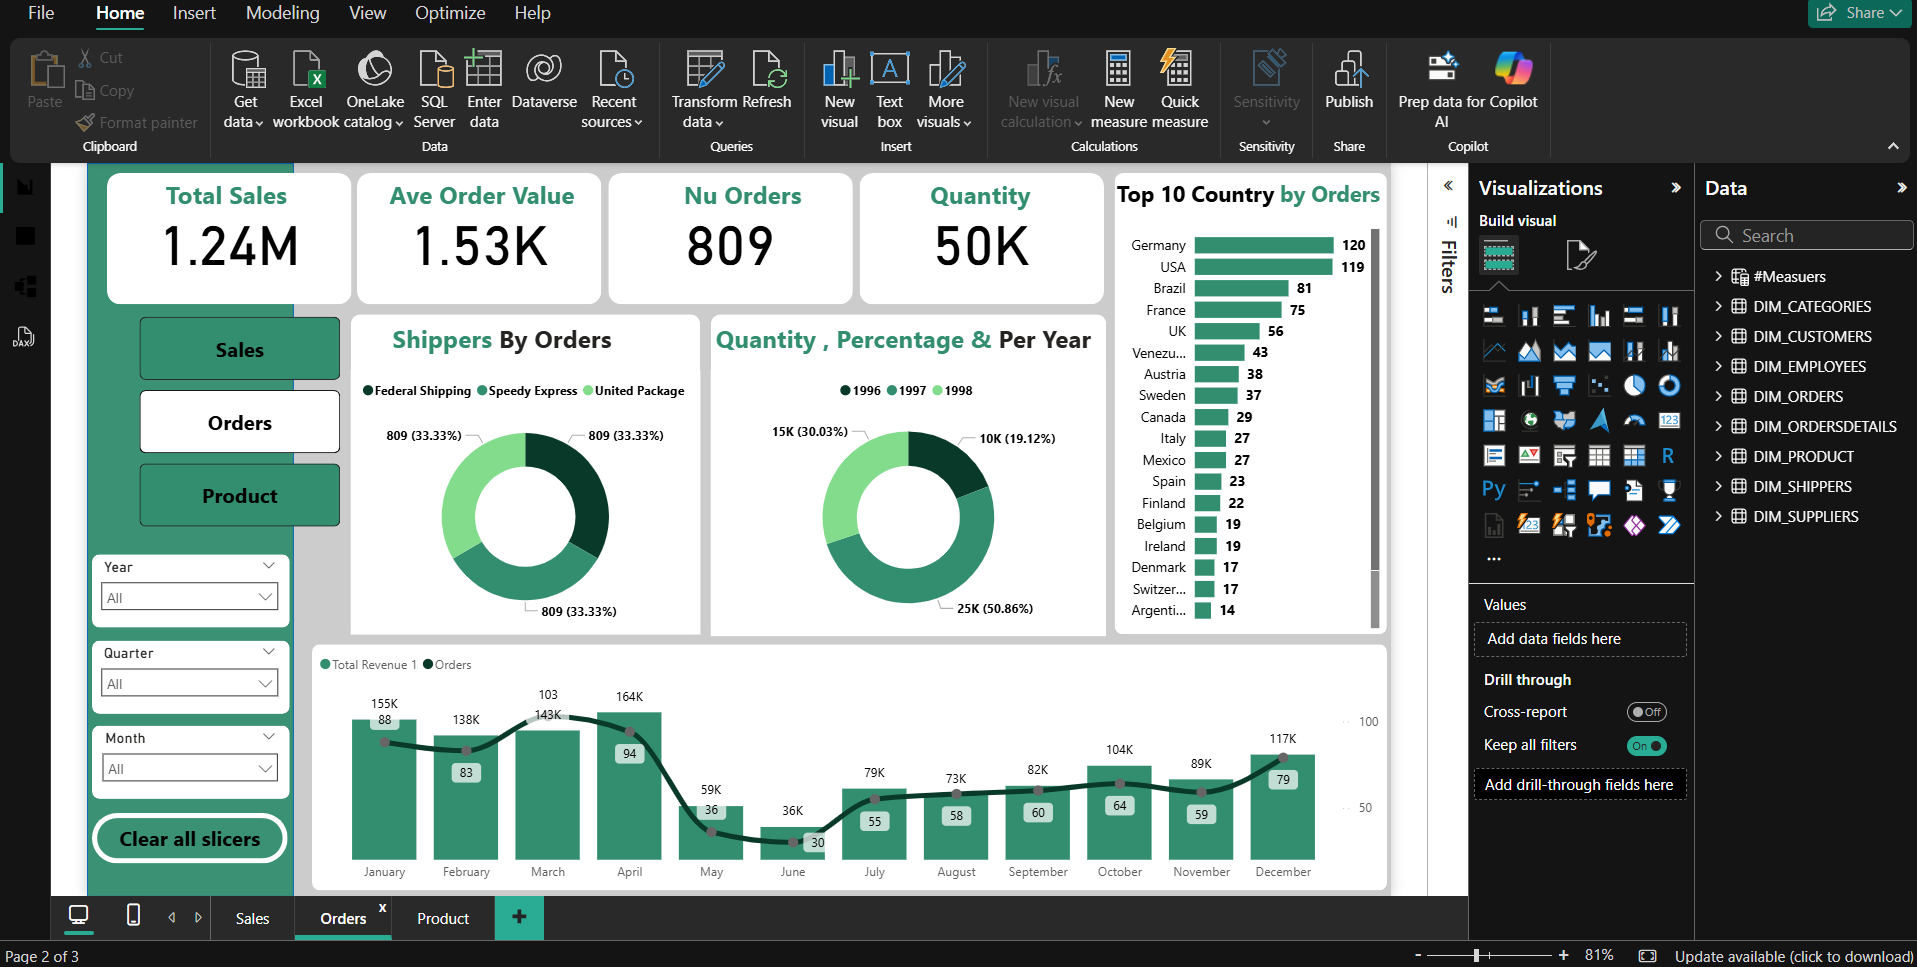

The page's visual inventory and layout, read from the dashboard file:
{"tool":"powerbi","page":{"name":"Orders","canvas":[1280,720],"ordinal":1},"visuals":[{"type":"shape","box":[1008.6,9.6,267.6,452.8],"z":0},{"type":"shape","box":[0,0,203.1,720.4],"z":1000},{"type":"shape","box":[19.2,9.6,240.1,129],"z":2000},{"type":"shape","box":[758,9.6,240,129],"z":3000},{"type":"shape","box":[511.7,9.6,240.1,129],"z":4000},{"type":"shape","box":[265.5,9.6,240,129],"z":5000},{"type":"card","title":"Age Order Value","fields":{"Values":["#Measuers.AOV"]},"box":[264.8,9.6,240.1,129],"z":6000},{"type":"card","title":"Nu Orders","fields":{"Values":["#Measuers.Orders"]},"box":[511.8,9.6,240.1,129],"z":7000},{"type":"card","title":"Total Sales","fields":{"Values":["#Measuers.Total Revenue 1"]},"box":[19.2,9.6,240.1,129],"z":8000},{"type":"card","title":"Quantity","fields":{"Values":["#Measuers.Quantity"]},"box":[757.5,9.6,240.1,129],"z":9000},{"type":"actionButton","box":[5.5,638.1,192.1,49.4],"z":10000},{"type":"clusteredBarChart","fields":{"Category":["DIM_ORDERS.SHIPCOUNTRY"],"Y":["#Measuers.Orders"]},"box":[1008.6,52.1,264.8,410.3],"z":11000},{"type":"textbox","box":[1000.3,9.6,279.9,64.5],"z":12000},{"type":"shape","box":[220.9,472.4,1055.2,241.7],"z":13000},{"type":"lineClusteredColumnComboChart","fields":{"Y":["#Measuers.Total Revenue 1"],"Y2":["#Measuers.Orders"],"Category":["DIM_ORDERS.ORDERDATE.Variation.Date Hierarchy.Month"]},"box":[223.3,472.4,1050.3,241.7],"z":14000},{"type":"shape","box":[259.3,148.2,343.1,314.2],"z":15000},{"type":"shape","box":[612,148.2,388.3,314.2],"z":16000},{"type":"donutChart","fields":{"Category":["DIM_SHIPPERS.COMPANYNAME"],"Y":["#Measuers.Orders"]},"box":[259.3,203.1,343.1,259.3],"z":17000},{"type":"textbox","box":[220.9,150.9,373.2,52.1],"z":18000},{"type":"donutChart","fields":{"Category":["DIM_ORDERS.ORDERDATE.Variation.Date Hierarchy.Year"],"Y":["#Measuers.Quantity"]},"box":[612,203.1,388.3,260.7],"z":19000},{"type":"textbox","box":[612,150.9,388.3,54.9],"z":20000},{"type":"pageNavigator","box":[52.1,150.9,197.6,208.6],"z":21000},{"type":"textbox","box":[50.8,9.6,172.9,52.1],"z":22000},{"type":"textbox","box":[271.7,9.6,240.1,52.1],"z":23000},{"type":"textbox","box":[520.1,9.6,240.1,52.1],"z":24000},{"type":"textbox","box":[757.5,9.6,240.1,52.1],"z":25000},{"type":"shape","box":[5,384.4,194.1,72.1],"z":26000},{"type":"shape","box":[5,469,194.1,72.1],"z":27000},{"type":"shape","box":[5,552.3,194.1,72.1],"z":28000},{"type":"slicer","fields":{"Values":["DIM_ORDERS.ORDERDATE.Variation.Date Hierarchy.Year"]},"box":[3.7,382.8,193.9,73.6],"z":29000},{"type":"slicer","fields":{"Values":["DIM_ORDERS.ORDERDATE.Variation.Date Hierarchy.Quarter"]},"box":[3.7,467.5,193.9,73.6],"z":30000},{"type":"slicer","fields":{"Values":["DIM_ORDERS.ORDERDATE.Variation.Date Hierarchy.Month"]},"box":[4.9,550.9,192.6,73.6],"z":31000}]}

Visuals, with their boxes on the page's 1280x720 design canvas (x1, y1, x2, y2). These are canvas units, not pixel positions in the 1917x967 screenshot, which may show the page scaled, cropped or inside an application window:
shape: <box>1009,10,1276,462</box>
shape: <box>0,0,203,720</box>
shape: <box>19,10,259,139</box>
shape: <box>758,10,998,139</box>
shape: <box>512,10,752,139</box>
shape: <box>266,10,506,139</box>
"Age Order Value" card: <box>265,10,505,139</box>
"Nu Orders" card: <box>512,10,752,139</box>
"Total Sales" card: <box>19,10,259,139</box>
"Quantity" card: <box>758,10,998,139</box>
actionButton: <box>6,638,198,688</box>
clusteredBarChart - DIM_ORDERS.SHIPCOUNTRY x #Measuers.Orders: <box>1009,52,1273,462</box>
textbox: <box>1000,10,1280,74</box>
shape: <box>221,472,1276,714</box>
lineClusteredColumnComboChart - #Measuers.Total Revenue 1 x #Measuers.Orders: <box>223,472,1274,714</box>
shape: <box>259,148,602,462</box>
shape: <box>612,148,1000,462</box>
donutChart - DIM_SHIPPERS.COMPANYNAME x #Measuers.Orders: <box>259,203,602,462</box>
textbox: <box>221,151,594,203</box>
donutChart - DIM_ORDERS.ORDERDATE.Variation.Date Hierarchy.Year x #Measuers.Quantity: <box>612,203,1000,464</box>
textbox: <box>612,151,1000,206</box>
pageNavigator: <box>52,151,250,360</box>
textbox: <box>51,10,224,62</box>
textbox: <box>272,10,512,62</box>
textbox: <box>520,10,760,62</box>
textbox: <box>758,10,998,62</box>
shape: <box>5,384,199,456</box>
shape: <box>5,469,199,541</box>
shape: <box>5,552,199,624</box>
slicer - DIM_ORDERS.ORDERDATE.Variation.Date Hierarchy.Year: <box>4,383,198,456</box>
slicer - DIM_ORDERS.ORDERDATE.Variation.Date Hierarchy.Quarter: <box>4,468,198,541</box>
slicer - DIM_ORDERS.ORDERDATE.Variation.Date Hierarchy.Month: <box>5,551,198,624</box>
